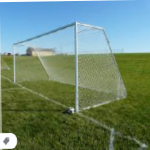goals: (12, 20, 128, 112)
